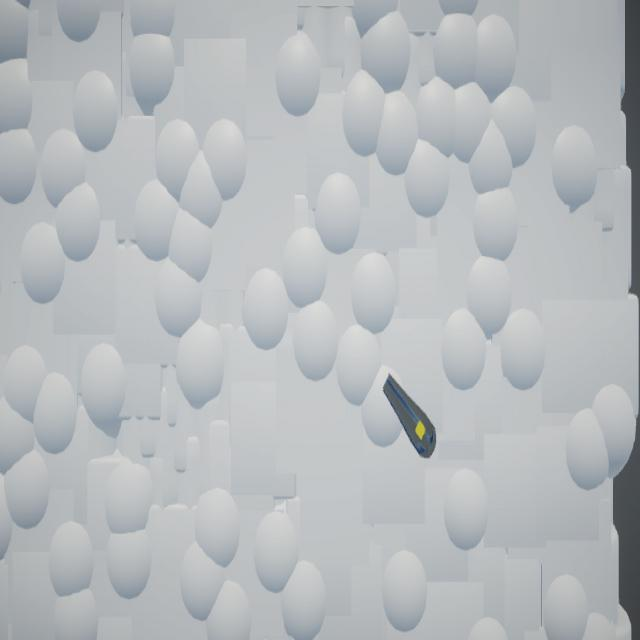handle_knife: (383, 374, 437, 460)
